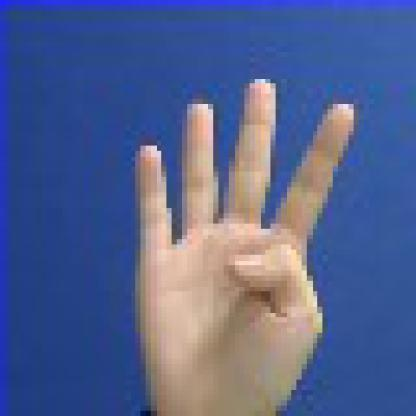four: (115, 67, 370, 410)
